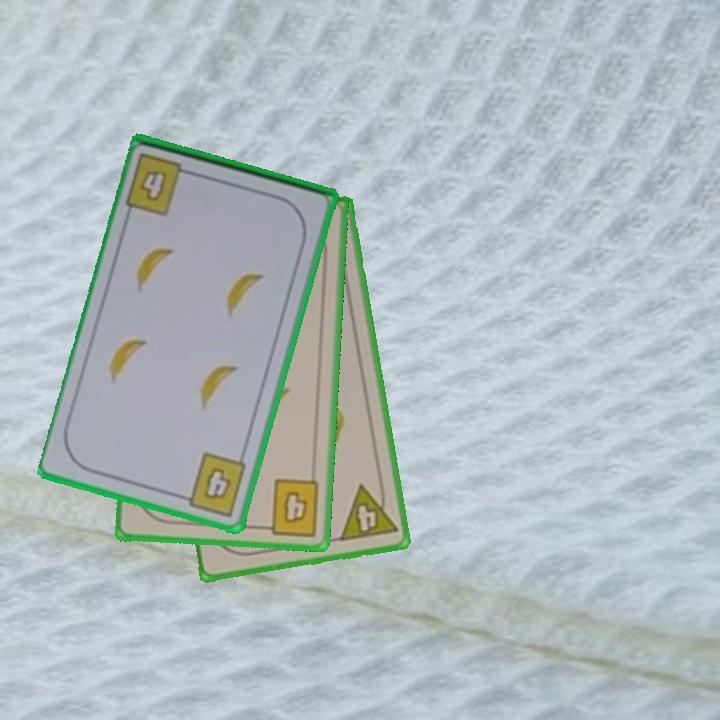4b: (122, 150, 199, 219), (176, 449, 250, 520), (256, 476, 323, 539)
4p: (335, 478, 400, 544)
